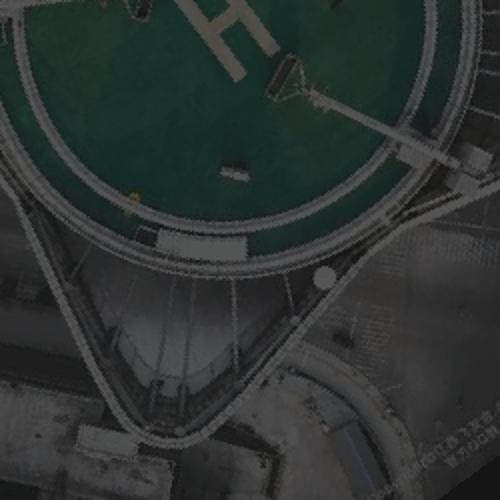Apron: (41, 1, 384, 200)
